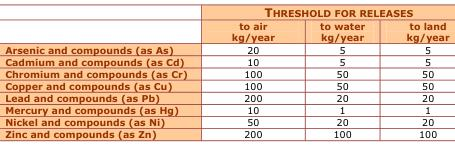table: (4, 4, 448, 139)
table column: (4, 4, 208, 139), (208, 4, 296, 139), (296, 4, 384, 139), (384, 4, 448, 139)
table column header: (4, 4, 448, 42)
table row: (4, 18, 448, 42), (4, 4, 448, 18), (4, 66, 448, 79), (4, 42, 448, 54), (4, 54, 448, 66), (4, 79, 448, 91), (4, 91, 448, 103), (4, 103, 448, 115), (4, 115, 448, 127), (4, 127, 448, 139)
table spanning cell: (208, 4, 448, 18)
